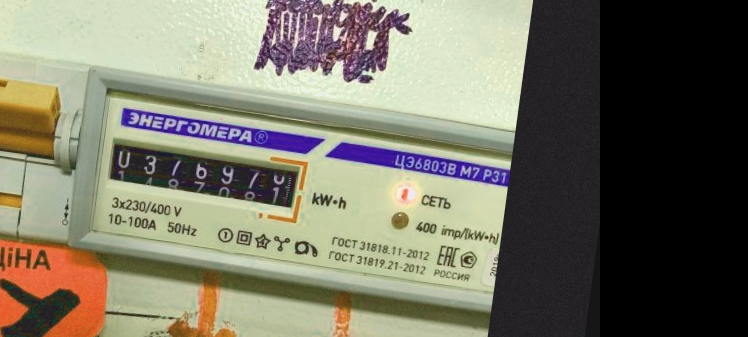0: (114, 144, 131, 168)
1: (267, 183, 281, 205)
3: (141, 152, 158, 175)
6: (192, 155, 210, 180)
7: (166, 152, 184, 178), (243, 165, 261, 190)
9: (218, 160, 234, 184)
screen: (95, 123, 313, 226)
